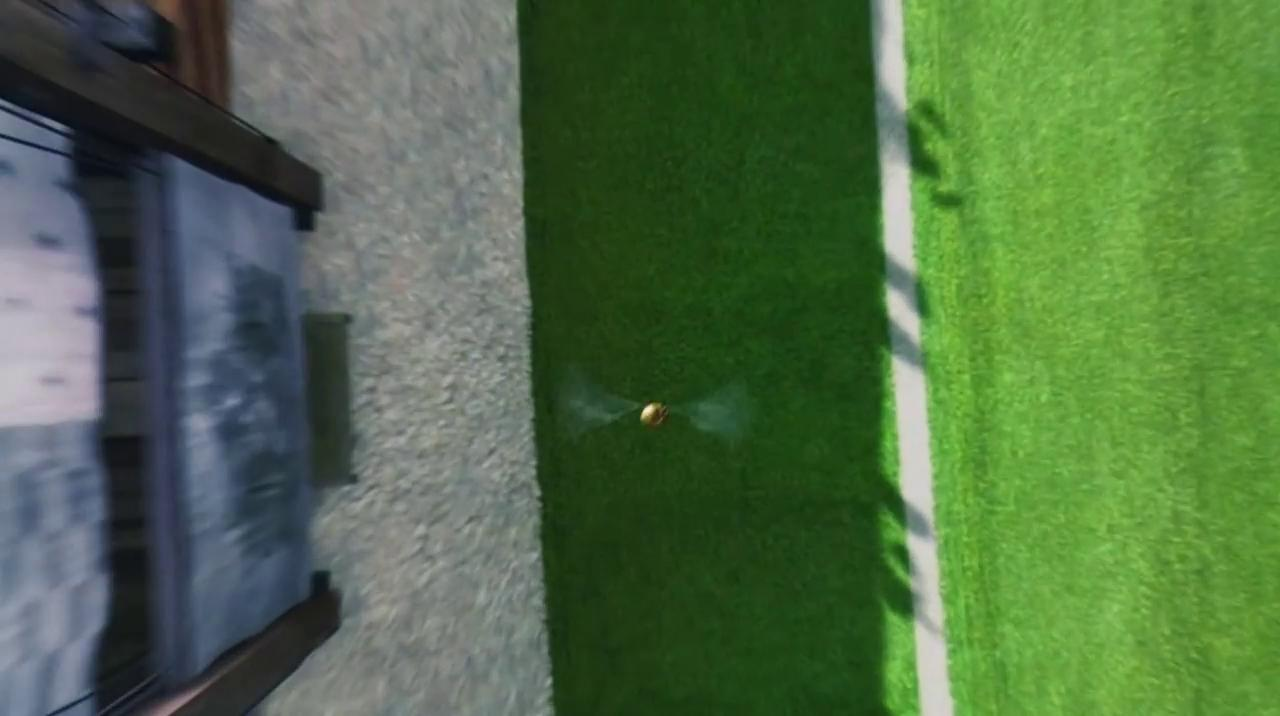snitch: (640, 401, 670, 432)
